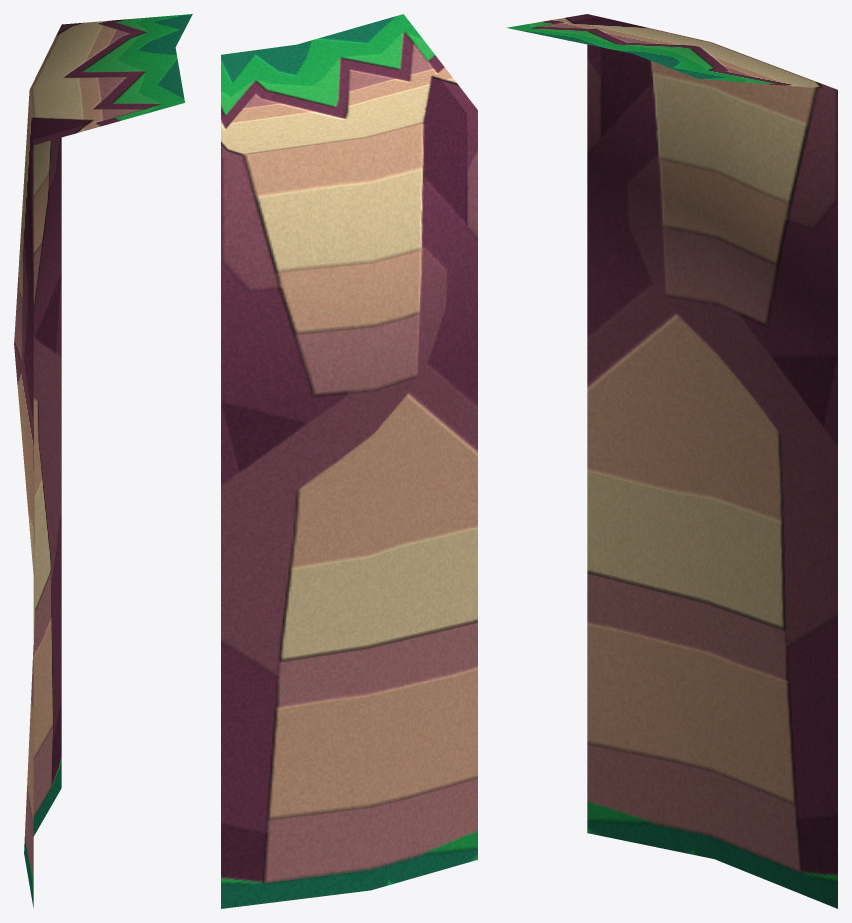
Rendered from Wall4.FBX.
The picture shows the model from 3 angles, left to right: view 1: azimuth 30°, elevation 25°; view 2: azimuth 150°, elevation 25°; view 3: azimuth 270°, elevation 25°; orthographic projection. The views are drawn at different scales.
Visible parts, largest first — view 1: Plane005; view 2: Plane005; view 3: Plane005.
Boxes of the visible parts, <box> form: Plane005: <box>14,14,192,907</box>; Plane005: <box>221,14,477,908</box>; Plane005: <box>506,14,837,908</box>.
Size of the model in its own units: 6.49 by 23.75 by 8.26.
Materials: 1 (1 with a texture image).
